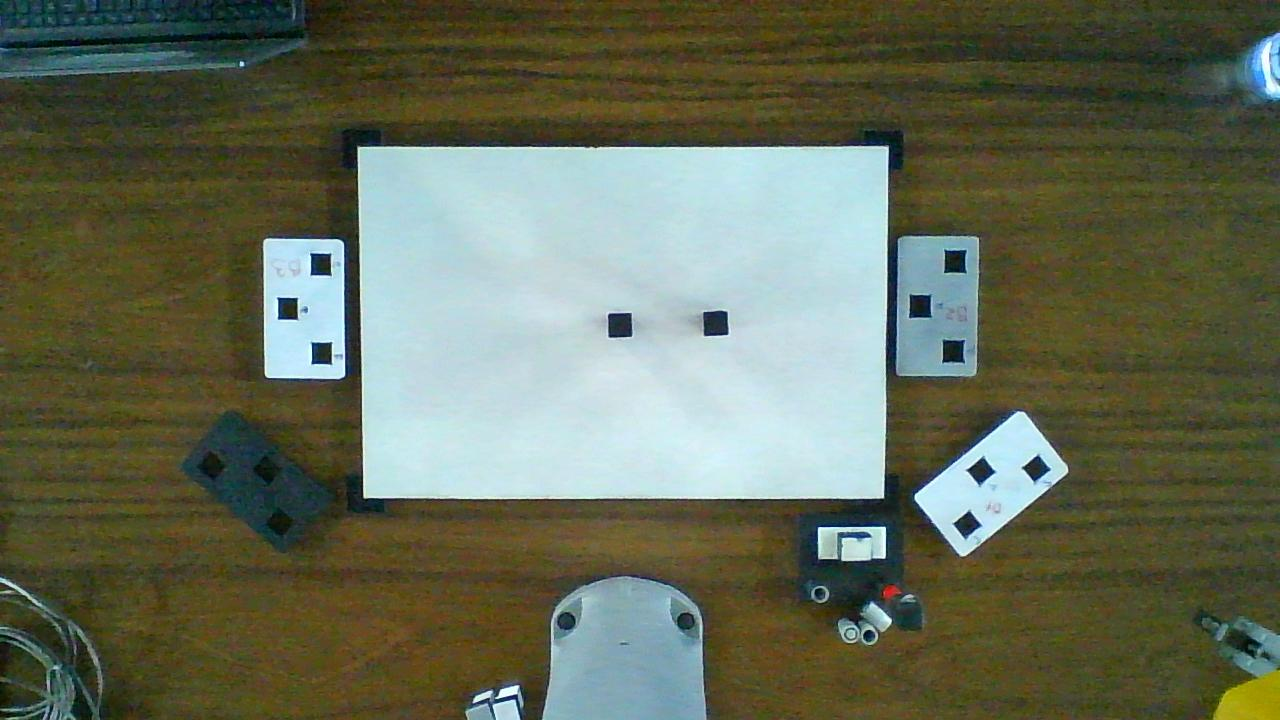peca_preta: (704, 312, 727, 335), (609, 314, 631, 336)
